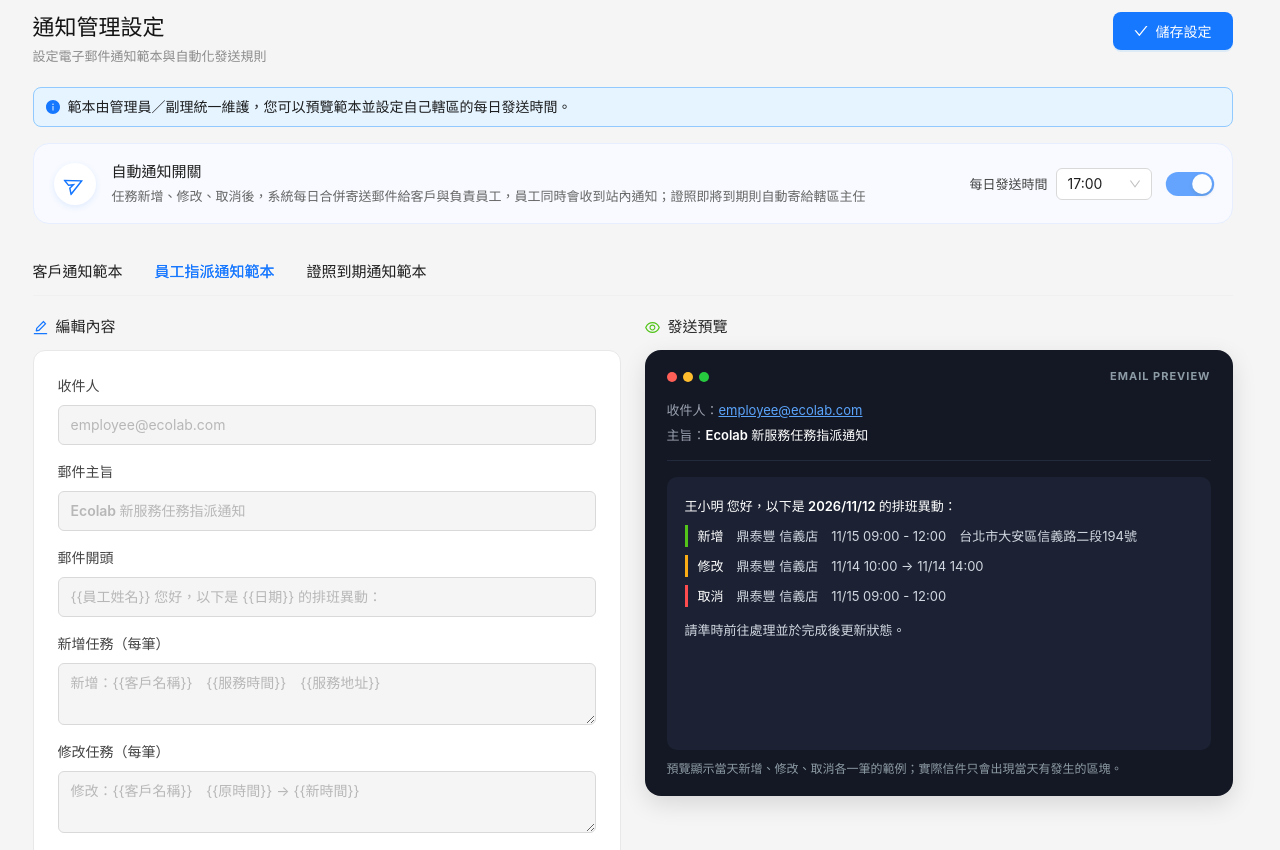
Test case: NotificationPage - 通知管理設定 › leader sees the license template read-only
This screenshot has width=1280, height=850.
Click the tab "證照到期通知範本".
click(366, 272)  # box [306,260,426,284]
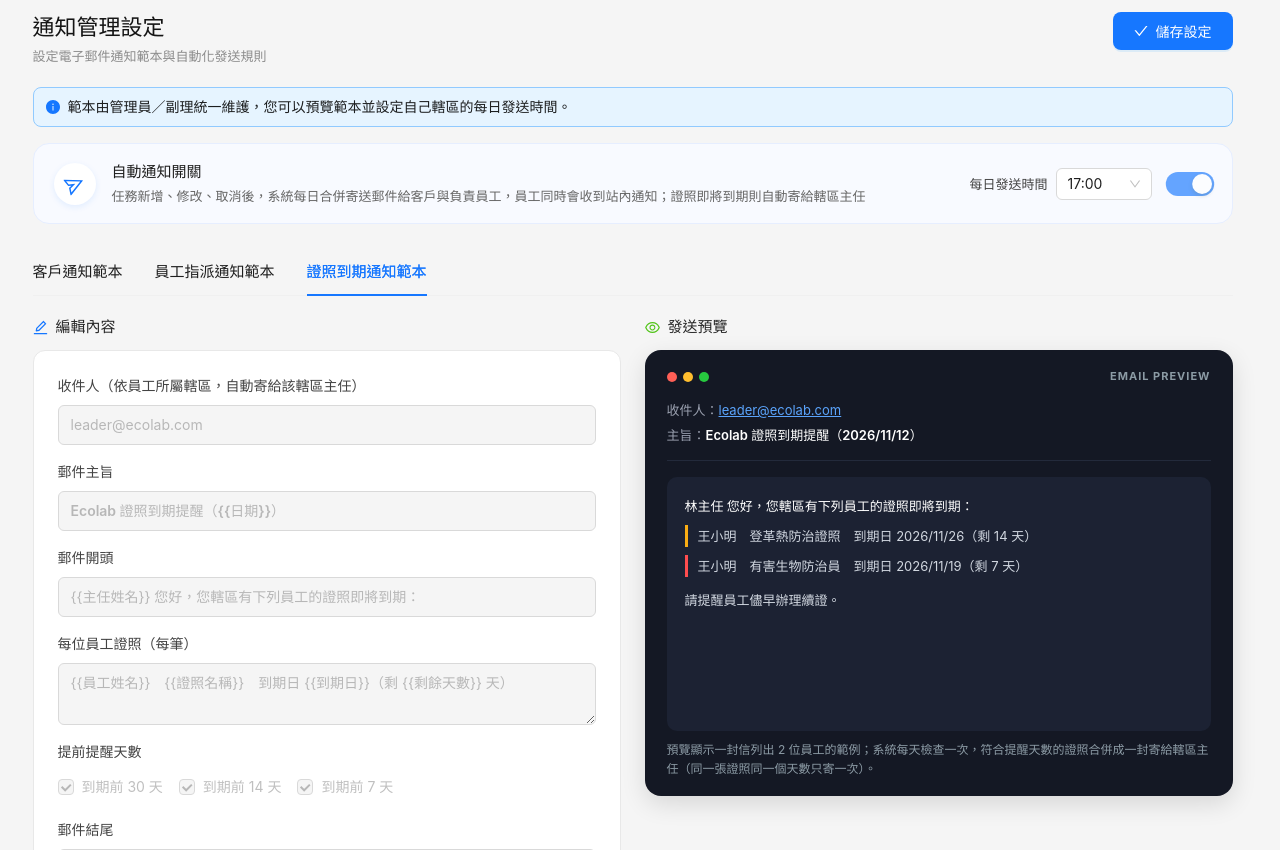
Check: the field with test id "subject-input" is disabled, box [58,491,596,531]
Check: the text box with test id "license-item-input" is disabled, box [58,663,596,725]
